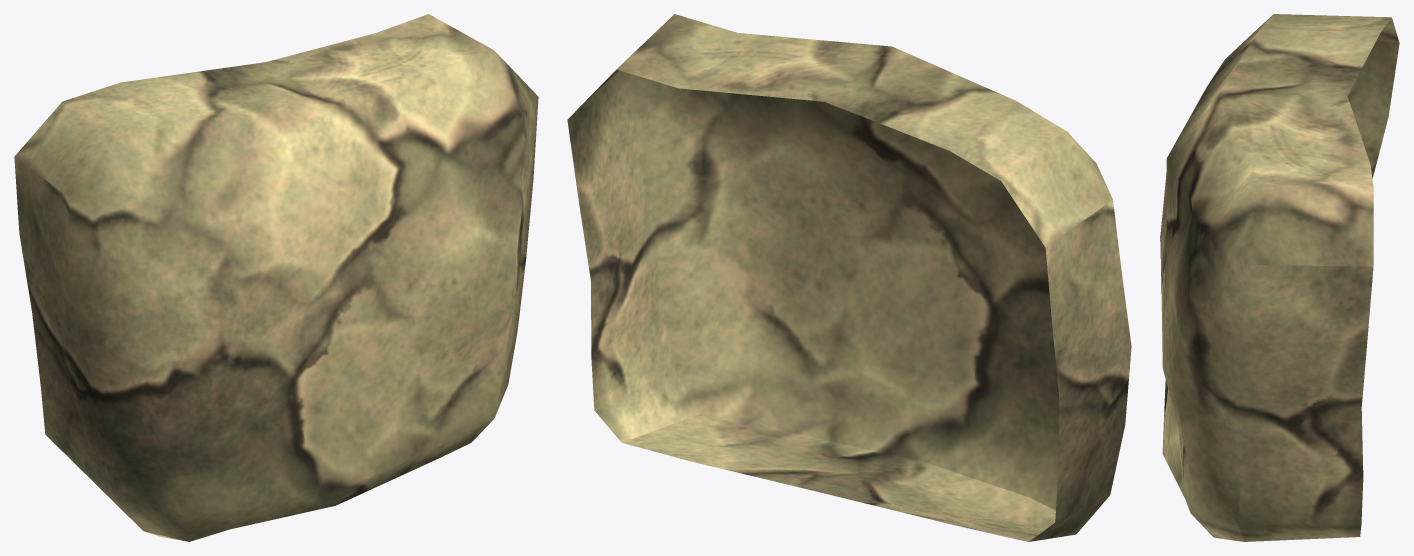
Rendered from Escalable.fbx.
3 renders of one model, left to right at view 1: azimuth 30°, elevation 25°; view 2: azimuth 150°, elevation 25°; view 3: azimuth 270°, elevation 25°, orthographic. The views are drawn at different scales.
Parts seen in each view (by area): view 1: piedra__3_; view 2: piedra__3_; view 3: piedra__3_.
Boxes of the visible parts, x1,y1,x2,y2 form: piedra__3_: (14, 14, 538, 541); piedra__3_: (567, 14, 1131, 541); piedra__3_: (1160, 14, 1399, 541).
Bounding box in the file's own units: 1248 × 1034 × 556.
